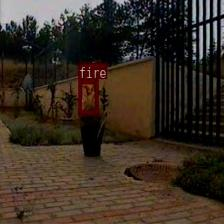fire: (78, 78, 98, 114)
